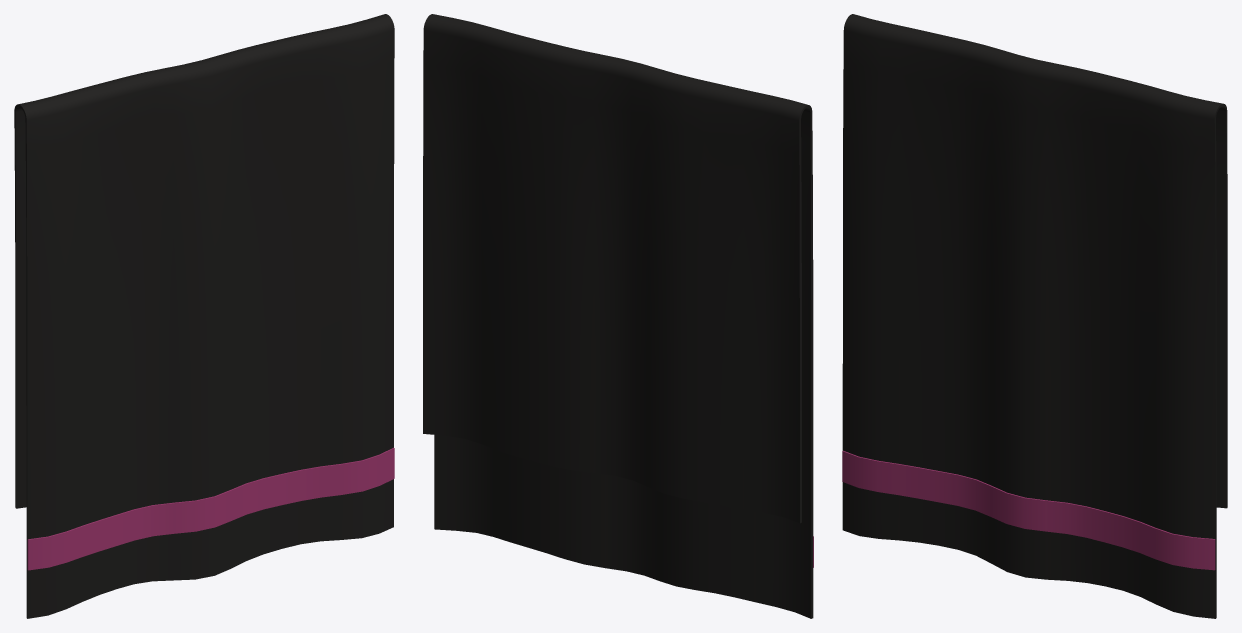
File: towel-line-vibe-2d8c5054a1f4.glb
3 views of the same model, side by side, from view 1: azimuth 30°, elevation 25°; view 2: azimuth 150°, elevation 25°; view 3: azimuth 330°, elevation 25° (orthographic).
Visible parts, largest first — view 1: rubber, accent-magenta; view 2: rubber; view 3: rubber, accent-magenta.
Boxes of the visible parts, x1=… form: rubber: x1=14, y1=14, x2=394, y2=618; accent-magenta: x1=27, y1=447, x2=394, y2=570; rubber: x1=423, y1=14, x2=813, y2=618; rubber: x1=842, y1=14, x2=1227, y2=618; accent-magenta: x1=842, y1=450, x2=1215, y2=570.
Size of the model in its own units: 0.38 by 0.5 by 0.036.
